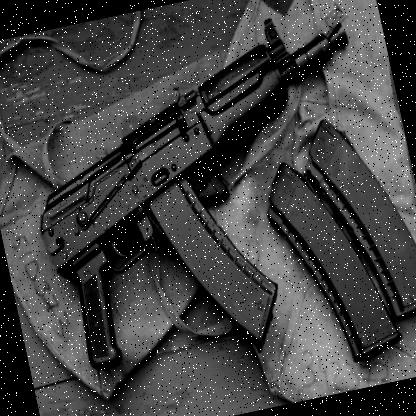rifle: (4, 18, 412, 390)
